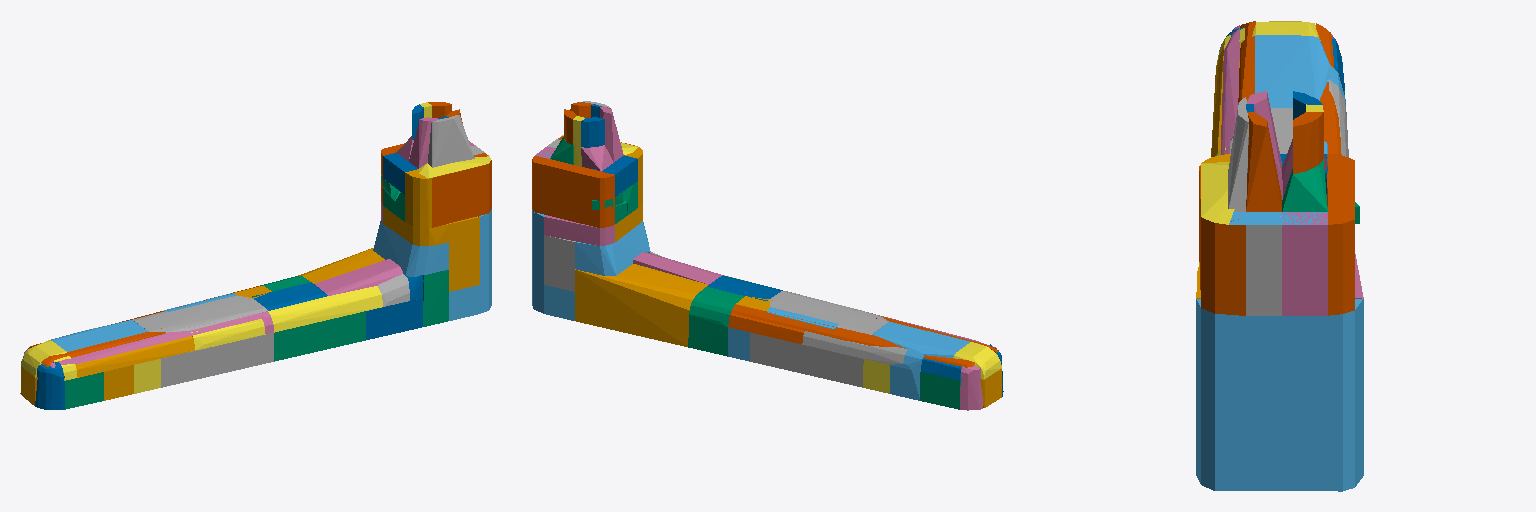
--- Facts derived from the render (not from the file) ---
3 views of the same robot in one strip: view 1: azimuth 30°, elevation 25°; view 2: azimuth 150°, elevation 25°; view 3: azimuth 270°, elevation 25° (orthographic).
Model root with 64 links and 63 joints (63 fixed), rooted at link_handle~handle5_convex_piece_0, posed every joint at zero.
Links seen in each view (by area): view 1: link_handle~handle5_convex_piece_63, link_handle~handle5_convex_piece_21, link_handle~handle5_convex_piece_58, link_handle~handle5_convex_piece_35, link_handle~handle5_convex_piece_47, link_handle~handle5_convex_piece_49, link_handle~handle5_convex_piece_8, link_handle~handle5_convex_piece_55, link_handle~handle5_convex_piece_48, link_handle~handle5_convex_piece_44, link_handle~handle5_convex_piece_46, link_handle~handle5_convex_piece_38 (+19 smaller); view 2: link_handle~handle5_convex_piece_56, link_handle~handle5_convex_piece_45, link_handle~handle5_convex_piece_63, link_handle~handle5_convex_piece_34, link_handle~handle5_convex_piece_49, link_handle~handle5_convex_piece_47, link_handle~handle5_convex_piece_61, link_handle~handle5_convex_piece_41, link_handle~handle5_convex_piece_7, link_handle~handle5_convex_piece_22, link_handle~handle5_convex_piece_57, link_handle~handle5_convex_piece_25 (+17 smaller); view 3: link_handle~handle5_convex_piece_25, link_handle~handle5_convex_piece_6, link_handle~handle5_convex_piece_41, link_handle~handle5_convex_piece_45, link_handle~handle5_convex_piece_21, link_handle~handle5_convex_piece_15, link_handle~handle5_convex_piece_53, link_handle~handle5_convex_piece_55, link_handle~handle5_convex_piece_26, link_handle~handle5_convex_piece_29, link_handle~handle5_convex_piece_38, link_handle~handle5_convex_piece_43 (+7 smaller).
Boxes of the visible links, x1,y1,x2,y2 form: link_handle~handle5_convex_piece_63: (161, 333, 273, 387); link_handle~handle5_convex_piece_21: (432, 153, 491, 227); link_handle~handle5_convex_piece_58: (274, 311, 365, 361); link_handle~handle5_convex_piece_35: (268, 286, 382, 332); link_handle~handle5_convex_piece_47: (134, 295, 267, 333); link_handle~handle5_convex_piece_49: (373, 220, 448, 276); link_handle~handle5_convex_piece_8: (449, 216, 479, 291); link_handle~handle5_convex_piece_55: (428, 115, 474, 167); link_handle~handle5_convex_piece_48: (75, 336, 194, 377); link_handle~handle5_convex_piece_44: (366, 298, 422, 339); link_handle~handle5_convex_piece_46: (314, 259, 402, 295); link_handle~handle5_convex_piece_38: (50, 313, 261, 367); link_handle~handle5_convex_piece_56: (575, 264, 707, 346); link_handle~handle5_convex_piece_45: (532, 156, 614, 227); link_handle~handle5_convex_piece_63: (750, 332, 863, 387); link_handle~handle5_convex_piece_34: (688, 287, 744, 356); link_handle~handle5_convex_piece_49: (575, 221, 650, 275); link_handle~handle5_convex_piece_47: (769, 291, 888, 332); link_handle~handle5_convex_piece_61: (731, 304, 974, 367); link_handle~handle5_convex_piece_41: (872, 322, 969, 357); link_handle~handle5_convex_piece_7: (544, 235, 575, 291); link_handle~handle5_convex_piece_22: (544, 215, 614, 245); link_handle~handle5_convex_piece_57: (890, 348, 924, 400); link_handle~handle5_convex_piece_25: (532, 209, 546, 313); link_handle~handle5_convex_piece_25: (1196, 299, 1363, 491); link_handle~handle5_convex_piece_6: (1282, 212, 1327, 315); link_handle~handle5_convex_piece_41: (1255, 35, 1329, 107); link_handle~handle5_convex_piece_45: (1327, 154, 1354, 315); link_handle~handle5_convex_piece_21: (1199, 166, 1245, 315); link_handle~handle5_convex_piece_15: (1246, 216, 1281, 315); link_handle~handle5_convex_piece_53: (1246, 112, 1281, 211); link_handle~handle5_convex_piece_55: (1228, 97, 1248, 211); link_handle~handle5_convex_piece_26: (1282, 159, 1327, 211); link_handle~handle5_convex_piece_29: (1293, 112, 1323, 173); link_handle~handle5_convex_piece_38: (1221, 25, 1239, 154); link_handle~handle5_convex_piece_43: (1201, 162, 1234, 224).
Size in the robot's own frame: 0.1277 by 0.0227 by 0.052 metres.
64 mesh visuals loaded from 64 distinct referenced files (64 OBJ).

URDF robot description (root):
<robot name="root">
  <link name="link_handle~handle5_convex_piece_0">
    <inertial>
      <origin xyz="0 0 0" rpy="0 0 0"/>
      <mass value="9.66E-04"/>
      <inertia ixx="1.10E-07" ixy="-2.01E-07" ixz="-5.53E-07" iyy="3.87E-06" iyz="-3.13E-08" izz="3.80E-06"/>
    </inertial>
    <visual>
      <origin xyz="0 0 0" rpy="0 0 0"/>
      <geometry>
        <mesh filename="handle~handle5_convex_piece_0.obj" scale="1.0000E+00 1.0000E+00 1.0000E+00"/>
      </geometry>
      <material name=""/>
    </visual>
    <collision>
      <origin xyz="0 0 0" rpy="0 0 0"/>
      <geometry>
        <mesh filename="handle~handle5_convex_piece_0.obj" scale="1.0000E+00 1.0000E+00 1.0000E+00"/>
      </geometry>
    </collision>
  </link>
  <link name="link_handle~handle5_convex_piece_1">
    <inertial>
      <origin xyz="0 0 0" rpy="0 0 0"/>
      <mass value="5.49E-04"/>
      <inertia ixx="7.18E-08" ixy="4.76E-08" ixz="-7.96E-08" iyy="1.89E-07" iyz="2.88E-08" izz="1.57E-07"/>
    </inertial>
    <visual>
      <origin xyz="0 0 0" rpy="0 0 0"/>
      <geometry>
        <mesh filename="handle~handle5_convex_piece_1.obj" scale="1.0000E+00 1.0000E+00 1.0000E+00"/>
      </geometry>
      <material name=""/>
    </visual>
    <collision>
      <origin xyz="0 0 0" rpy="0 0 0"/>
      <geometry>
        <mesh filename="handle~handle5_convex_piece_1.obj" scale="1.0000E+00 1.0000E+00 1.0000E+00"/>
      </geometry>
    </collision>
  </link>
  <joint name="link_handle~handle5_convex_piece_1_joint" type="fixed">
    <origin xyz="0 0 0" rpy="0 0 0"/>
    <parent link="link_handle~handle5_convex_piece_0"/>
    <child link="link_handle~handle5_convex_piece_1"/>
  </joint>
  <link name="link_handle~handle5_convex_piece_2">
    <inertial>
      <origin xyz="0 0 0" rpy="0 0 0"/>
      <mass value="1.30E-03"/>
      <inertia ixx="1.38E-07" ixy="1.82E-07" ixz="2.47E-07" iyy="1.01E-06" iyz="-4.94E-08" izz="9.71E-07"/>
    </inertial>
    <visual>
      <origin xyz="0 0 0" rpy="0 0 0"/>
      <geometry>
        <mesh filename="handle~handle5_convex_piece_2.obj" scale="1.0000E+00 1.0000E+00 1.0000E+00"/>
      </geometry>
      <material name=""/>
    </visual>
    <collision>
      <origin xyz="0 0 0" rpy="0 0 0"/>
      <geometry>
        <mesh filename="handle~handle5_convex_piece_2.obj" scale="1.0000E+00 1.0000E+00 1.0000E+00"/>
      </geometry>
    </collision>
  </link>
  <joint name="link_handle~handle5_convex_piece_2_joint" type="fixed">
    <origin xyz="0 0 0" rpy="0 0 0"/>
    <parent link="link_handle~handle5_convex_piece_1"/>
    <child link="link_handle~handle5_convex_piece_2"/>
  </joint>
  <link name="link_handle~handle5_convex_piece_3">
    <inertial>
      <origin xyz="0 0 0" rpy="0 0 0"/>
      <mass value="1.32E-03"/>
      <inertia ixx="1.67E-07" ixy="3.54E-09" ixz="-6.92E-07" iyy="4.07E-06" iyz="2.98E-10" izz="3.97E-06"/>
    </inertial>
    <visual>
      <origin xyz="0 0 0" rpy="0 0 0"/>
      <geometry>
        <mesh filename="handle~handle5_convex_piece_3.obj" scale="1.0000E+00 1.0000E+00 1.0000E+00"/>
      </geometry>
      <material name=""/>
    </visual>
    <collision>
      <origin xyz="0 0 0" rpy="0 0 0"/>
      <geometry>
        <mesh filename="handle~handle5_convex_piece_3.obj" scale="1.0000E+00 1.0000E+00 1.0000E+00"/>
      </geometry>
    </collision>
  </link>
  <joint name="link_handle~handle5_convex_piece_3_joint" type="fixed">
    <origin xyz="0 0 0" rpy="0 0 0"/>
    <parent link="link_handle~handle5_convex_piece_2"/>
    <child link="link_handle~handle5_convex_piece_3"/>
  </joint>
  <link name="link_handle~handle5_convex_piece_4">
    <inertial>
      <origin xyz="0 0 0" rpy="0 0 0"/>
      <mass value="1.26E-04"/>
      <inertia ixx="9.52E-09" ixy="2.07E-08" ixz="8.67E-09" iyy="5.88E-08" iyz="-3.23E-09" izz="6.50E-08"/>
    </inertial>
    <visual>
      <origin xyz="0 0 0" rpy="0 0 0"/>
      <geometry>
        <mesh filename="handle~handle5_convex_piece_4.obj" scale="1.0000E+00 1.0000E+00 1.0000E+00"/>
      </geometry>
      <material name=""/>
    </visual>
    <collision>
      <origin xyz="0 0 0" rpy="0 0 0"/>
      <geometry>
        <mesh filename="handle~handle5_convex_piece_4.obj" scale="1.0000E+00 1.0000E+00 1.0000E+00"/>
      </geometry>
    </collision>
  </link>
  <joint name="link_handle~handle5_convex_piece_4_joint" type="fixed">
    <origin xyz="0 0 0" rpy="0 0 0"/>
    <parent link="link_handle~handle5_convex_piece_3"/>
    <child link="link_handle~handle5_convex_piece_4"/>
  </joint>
  <link name="link_handle~handle5_convex_piece_5">
    <inertial>
      <origin xyz="0 0 0" rpy="0 0 0"/>
      <mass value="6.37E-05"/>
      <inertia ixx="4.13E-09" ixy="-8.38E-09" ixz="-1.26E-08" iyy="7.22E-08" iyz="-1.53E-09" izz="7.01E-08"/>
    </inertial>
    <visual>
      <origin xyz="0 0 0" rpy="0 0 0"/>
      <geometry>
        <mesh filename="handle~handle5_convex_piece_5.obj" scale="1.0000E+00 1.0000E+00 1.0000E+00"/>
      </geometry>
      <material name=""/>
    </visual>
    <collision>
      <origin xyz="0 0 0" rpy="0 0 0"/>
      <geometry>
        <mesh filename="handle~handle5_convex_piece_5.obj" scale="1.0000E+00 1.0000E+00 1.0000E+00"/>
      </geometry>
    </collision>
  </link>
  <joint name="link_handle~handle5_convex_piece_5_joint" type="fixed">
    <origin xyz="0 0 0" rpy="0 0 0"/>
    <parent link="link_handle~handle5_convex_piece_4"/>
    <child link="link_handle~handle5_convex_piece_5"/>
  </joint>
  <link name="link_handle~handle5_convex_piece_6">
    <inertial>
      <origin xyz="0 0 0" rpy="0 0 0"/>
      <mass value="4.26E-04"/>
      <inertia ixx="1.64E-07" ixy="-5.77E-08" ixz="-3.39E-07" iyy="9.14E-07" iyz="-2.60E-08" izz="7.62E-07"/>
    </inertial>
    <visual>
      <origin xyz="0 0 0" rpy="0 0 0"/>
      <geometry>
        <mesh filename="handle~handle5_convex_piece_6.obj" scale="1.0000E+00 1.0000E+00 1.0000E+00"/>
      </geometry>
      <material name=""/>
    </visual>
    <collision>
      <origin xyz="0 0 0" rpy="0 0 0"/>
      <geometry>
        <mesh filename="handle~handle5_convex_piece_6.obj" scale="1.0000E+00 1.0000E+00 1.0000E+00"/>
      </geometry>
    </collision>
  </link>
  <joint name="link_handle~handle5_convex_piece_6_joint" type="fixed">
    <origin xyz="0 0 0" rpy="0 0 0"/>
    <parent link="link_handle~handle5_convex_piece_5"/>
    <child link="link_handle~handle5_convex_piece_6"/>
  </joint>
  <link name="link_handle~handle5_convex_piece_7">
    <inertial>
      <origin xyz="0 0 0" rpy="0 0 0"/>
      <mass value="7.29E-04"/>
      <inertia ixx="6.05E-08" ixy="-2.02E-07" ixz="-1.77E-08" iyy="8.79E-07" iyz="-3.94E-09" izz="9.18E-07"/>
    </inertial>
    <visual>
      <origin xyz="0 0 0" rpy="0 0 0"/>
      <geometry>
        <mesh filename="handle~handle5_convex_piece_7.obj" scale="1.0000E+00 1.0000E+00 1.0000E+00"/>
      </geometry>
      <material name=""/>
    </visual>
    <collision>
      <origin xyz="0 0 0" rpy="0 0 0"/>
      <geometry>
        <mesh filename="handle~handle5_convex_piece_7.obj" scale="1.0000E+00 1.0000E+00 1.0000E+00"/>
      </geometry>
    </collision>
  </link>
  <joint name="link_handle~handle5_convex_piece_7_joint" type="fixed">
    <origin xyz="0 0 0" rpy="0 0 0"/>
    <parent link="link_handle~handle5_convex_piece_6"/>
    <child link="link_handle~handle5_convex_piece_7"/>
  </joint>
  <link name="link_handle~handle5_convex_piece_8">
    <inertial>
      <origin xyz="0 0 0" rpy="0 0 0"/>
      <mass value="1.00E-03"/>
      <inertia ixx="1.05E-07" ixy="2.76E-07" ixz="-1.09E-07" iyy="1.23E-06" iyz="2.51E-08" izz="1.26E-06"/>
    </inertial>
    <visual>
      <origin xyz="0 0 0" rpy="0 0 0"/>
      <geometry>
        <mesh filename="handle~handle5_convex_piece_8.obj" scale="1.0000E+00 1.0000E+00 1.0000E+00"/>
      </geometry>
      <material name=""/>
    </visual>
    <collision>
      <origin xyz="0 0 0" rpy="0 0 0"/>
      <geometry>
        <mesh filename="handle~handle5_convex_piece_8.obj" scale="1.0000E+00 1.0000E+00 1.0000E+00"/>
      </geometry>
    </collision>
  </link>
  <joint name="link_handle~handle5_convex_piece_8_joint" type="fixed">
    <origin xyz="0 0 0" rpy="0 0 0"/>
    <parent link="link_handle~handle5_convex_piece_7"/>
    <child link="link_handle~handle5_convex_piece_8"/>
  </joint>
  <link name="link_handle~handle5_convex_piece_9">
    <inertial>
      <origin xyz="0 0 0" rpy="0 0 0"/>
      <mass value="0.00E+00"/>
      <inertia ixx="2.90E-23" ixy="-0.00E+00" ixz="-1.16E-22" iyy="2.90E-23" iyz="-0.00E+00" izz="0.00E+00"/>
    </inertial>
    <visual>
      <origin xyz="0 0 0" rpy="0 0 0"/>
      <geometry>
        <mesh filename="handle~handle5_convex_piece_9.obj" scale="1.0000E+00 1.0000E+00 1.0000E+00"/>
      </geometry>
      <material name=""/>
    </visual>
    <collision>
      <origin xyz="0 0 0" rpy="0 0 0"/>
      <geometry>
        <mesh filename="handle~handle5_convex_piece_9.obj" scale="1.0000E+00 1.0000E+00 1.0000E+00"/>
      </geometry>
    </collision>
  </link>
  <joint name="link_handle~handle5_convex_piece_9_joint" type="fixed">
    <origin xyz="0 0 0" rpy="0 0 0"/>
    <parent link="link_handle~handle5_convex_piece_8"/>
    <child link="link_handle~handle5_convex_piece_9"/>
  </joint>
  <link name="link_handle~handle5_convex_piece_10">
    <inertial>
      <origin xyz="0 0 0" rpy="0 0 0"/>
      <mass value="7.95E-05"/>
      <inertia ixx="2.95E-08" ixy="-1.14E-08" ixz="-3.44E-08" iyy="7.14E-08" iyz="-8.72E-09" izz="4.84E-08"/>
    </inertial>
    <visual>
      <origin xyz="0 0 0" rpy="0 0 0"/>
      <geometry>
        <mesh filename="handle~handle5_convex_piece_10.obj" scale="1.0000E+00 1.0000E+00 1.0000E+00"/>
      </geometry>
      <material name=""/>
    </visual>
    <collision>
      <origin xyz="0 0 0" rpy="0 0 0"/>
      <geometry>
        <mesh filename="handle~handle5_convex_piece_10.obj" scale="1.0000E+00 1.0000E+00 1.0000E+00"/>
      </geometry>
    </collision>
  </link>
  <joint name="link_handle~handle5_convex_piece_10_joint" type="fixed">
    <origin xyz="0 0 0" rpy="0 0 0"/>
    <parent link="link_handle~handle5_convex_piece_9"/>
    <child link="link_handle~handle5_convex_piece_10"/>
  </joint>
  <link name="link_handle~handle5_convex_piece_11">
    <inertial>
      <origin xyz="0 0 0" rpy="0 0 0"/>
      <mass value="1.10E-04"/>
      <inertia ixx="8.50E-08" ixy="-1.58E-08" ixz="-9.57E-08" iyy="2.02E-07" iyz="-1.29E-08" izz="1.21E-07"/>
    </inertial>
    <visual>
      <origin xyz="0 0 0" rpy="0 0 0"/>
      <geometry>
        <mesh filename="handle~handle5_convex_piece_11.obj" scale="1.0000E+00 1.0000E+00 1.0000E+00"/>
      </geometry>
      <material name=""/>
    </visual>
    <collision>
      <origin xyz="0 0 0" rpy="0 0 0"/>
      <geometry>
        <mesh filename="handle~handle5_convex_piece_11.obj" scale="1.0000E+00 1.0000E+00 1.0000E+00"/>
      </geometry>
    </collision>
  </link>
  <joint name="link_handle~handle5_convex_piece_11_joint" type="fixed">
    <origin xyz="0 0 0" rpy="0 0 0"/>
    <parent link="link_handle~handle5_convex_piece_10"/>
    <child link="link_handle~handle5_convex_piece_11"/>
  </joint>
  <link name="link_handle~handle5_convex_piece_12">
    <inertial>
      <origin xyz="0 0 0" rpy="0 0 0"/>
      <mass value="5.61E-05"/>
      <inertia ixx="4.03E-09" ixy="2.89E-08" ixz="-1.80E-08" iyy="2.95E-07" iyz="1.80E-09" izz="2.97E-07"/>
    </inertial>
    <visual>
      <origin xyz="0 0 0" rpy="0 0 0"/>
      <geometry>
        <mesh filename="handle~handle5_convex_piece_12.obj" scale="1.0000E+00 1.0000E+00 1.0000E+00"/>
      </geometry>
      <material name=""/>
    </visual>
    <collision>
      <origin xyz="0 0 0" rpy="0 0 0"/>
      <geometry>
        <mesh filename="handle~handle5_convex_piece_12.obj" scale="1.0000E+00 1.0000E+00 1.0000E+00"/>
      </geometry>
    </collision>
  </link>
  <joint name="link_handle~handle5_convex_piece_12_joint" type="fixed">
    <origin xyz="0 0 0" rpy="0 0 0"/>
    <parent link="link_handle~handle5_convex_piece_11"/>
    <child link="link_handle~handle5_convex_piece_12"/>
  </joint>
  <link name="link_handle~handle5_convex_piece_13">
    <inertial>
      <origin xyz="0 0 0" rpy="0 0 0"/>
      <mass value="1.04E-04"/>
      <inertia ixx="9.45E-09" ixy="1.99E-08" ixz="-1.05E-08" iyy="6.02E-08" iyz="3.88E-09" izz="6.54E-08"/>
    </inertial>
    <visual>
      <origin xyz="0 0 0" rpy="0 0 0"/>
      <geometry>
        <mesh filename="handle~handle5_convex_piece_13.obj" scale="1.0000E+00 1.0000E+00 1.0000E+00"/>
      </geometry>
      <material name=""/>
    </visual>
    <collision>
      <origin xyz="0 0 0" rpy="0 0 0"/>
      <geometry>
        <mesh filename="handle~handle5_convex_piece_13.obj" scale="1.0000E+00 1.0000E+00 1.0000E+00"/>
      </geometry>
    </collision>
  </link>
  <joint name="link_handle~handle5_convex_piece_13_joint" type="fixed">
    <origin xyz="0 0 0" rpy="0 0 0"/>
    <parent link="link_handle~handle5_convex_piece_12"/>
    <child link="link_handle~handle5_convex_piece_13"/>
  </joint>
  <link name="link_handle~handle5_convex_piece_14">
    <inertial>
      <origin xyz="0 0 0" rpy="0 0 0"/>
      <mass value="1.01E-04"/>
      <inertia ixx="1.33E-08" ixy="5.02E-08" ixz="-7.29E-08" iyy="6.50E-07" iyz="5.75E-09" izz="6.45E-07"/>
    </inertial>
    <visual>
      <origin xyz="0 0 0" rpy="0 0 0"/>
      <geometry>
        <mesh filename="handle~handle5_convex_piece_14.obj" scale="1.0000E+00 1.0000E+00 1.0000E+00"/>
      </geometry>
      <material name=""/>
    </visual>
    <collision>
      <origin xyz="0 0 0" rpy="0 0 0"/>
      <geometry>
        <mesh filename="handle~handle5_convex_piece_14.obj" scale="1.0000E+00 1.0000E+00 1.0000E+00"/>
      </geometry>
    </collision>
  </link>
  <joint name="link_handle~handle5_convex_piece_14_joint" type="fixed">
    <origin xyz="0 0 0" rpy="0 0 0"/>
    <parent link="link_handle~handle5_convex_piece_13"/>
    <child link="link_handle~handle5_convex_piece_14"/>
  </joint>
  <link name="link_handle~handle5_convex_piece_15">
    <inertial>
      <origin xyz="0 0 0" rpy="0 0 0"/>
      <mass value="6.59E-04"/>
      <inertia ixx="2.51E-07" ixy="5.80E-08" ixz="-4.97E-07" iyy="1.30E-06" iyz="2.77E-08" izz="1.06E-06"/>
    </inertial>
    <visual>
      <origin xyz="0 0 0" rpy="0 0 0"/>
      <geometry>
        <mesh filename="handle~handle5_convex_piece_15.obj" scale="1.0000E+00 1.0000E+00 1.0000E+00"/>
      </geometry>
      <material name=""/>
    </visual>
    <collision>
      <origin xyz="0 0 0" rpy="0 0 0"/>
      <geometry>
        <mesh filename="handle~handle5_convex_piece_15.obj" scale="1.0000E+00 1.0000E+00 1.0000E+00"/>
      </geometry>
    </collision>
  </link>
  <joint name="link_handle~handle5_convex_piece_15_joint" type="fixed">
    <origin xyz="0 0 0" rpy="0 0 0"/>
    <parent link="link_handle~handle5_convex_piece_14"/>
    <child link="link_handle~handle5_convex_piece_15"/>
  </joint>
  <link name="link_handle~handle5_convex_piece_16">
    <inertial>
      <origin xyz="0 0 0" rpy="0 0 0"/>
      <mass value="3.86E-04"/>
      <inertia ixx="4.54E-08" ixy="2.09E-08" ixz="-3.16E-07" iyy="2.54E-06" iyz="2.73E-09" izz="2.50E-06"/>
    </inertial>
    <visual>
      <origin xyz="0 0 0" rpy="0 0 0"/>
      <geometry>
        <mesh filename="handle~handle5_convex_piece_16.obj" scale="1.0000E+00 1.0000E+00 1.0000E+00"/>
      </geometry>
      <material name=""/>
    </visual>
    <collision>
      <origin xyz="0 0 0" rpy="0 0 0"/>
      <geometry>
        <mesh filename="handle~handle5_convex_piece_16.obj" scale="1.0000E+00 1.0000E+00 1.0000E+00"/>
      </geometry>
    </collision>
  </link>
  <joint name="link_handle~handle5_convex_piece_16_joint" type="fixed">
    <origin xyz="0 0 0" rpy="0 0 0"/>
    <parent link="link_handle~handle5_convex_piece_15"/>
    <child link="link_handle~handle5_convex_piece_16"/>
  </joint>
  <link name="link_handle~handle5_convex_piece_17">
    <inertial>
      <origin xyz="0 0 0" rpy="0 0 0"/>
      <mass value="1.62E-03"/>
      <inertia ixx="2.50E-07" ixy="-6.22E-10" ixz="5.82E-07" iyy="2.15E-06" iyz="1.77E-10" izz="2.04E-06"/>
    </inertial>
    <visual>
      <origin xyz="0 0 0" rpy="0 0 0"/>
      <geometry>
        <mesh filename="handle~handle5_convex_piece_17.obj" scale="1.0000E+00 1.0000E+00 1.0000E+00"/>
      </geometry>
      <material name=""/>
    </visual>
    <collision>
      <origin xyz="0 0 0" rpy="0 0 0"/>
      <geometry>
        <mesh filename="handle~handle5_convex_piece_17.obj" scale="1.0000E+00 1.0000E+00 1.0000E+00"/>
      </geometry>
    </collision>
  </link>
  <joint name="link_handle~handle5_convex_piece_17_joint" type="fixed">
    <origin xyz="0 0 0" rpy="0 0 0"/>
    <parent link="link_handle~handle5_convex_piece_16"/>
    <child link="link_handle~handle5_convex_piece_17"/>
  </joint>
  <link name="link_handle~handle5_convex_piece_18">
    <inertial>
      <origin xyz="0 0 0" rpy="0 0 0"/>
      <mass value="1.58E-03"/>
      <inertia ixx="2.16E-07" ixy="1.76E-09" ixz="-1.18E-06" iyy="8.41E-06" iyz="1.72E-10" izz="8.28E-06"/>
    </inertial>
    <visual>
      <origin xyz="0 0 0" rpy="0 0 0"/>
      <geometry>
        <mesh filename="handle~handle5_convex_piece_18.obj" scale="1.0000E+00 1.0000E+00 1.0000E+00"/>
      </geometry>
      <material name=""/>
    </visual>
    <collision>
      <origin xyz="0 0 0" rpy="0 0 0"/>
      <geometry>
        <mesh filename="handle~handle5_convex_piece_18.obj" scale="1.0000E+00 1.0000E+00 1.0000E+00"/>
      </geometry>
    </collision>
  </link>
  <joint name="link_handle~handle5_convex_piece_18_joint" type="fixed">
    <origin xyz="0 0 0" rpy="0 0 0"/>
    <parent link="link_handle~handle5_convex_piece_17"/>
    <child link="link_handle~handle5_convex_piece_18"/>
  </joint>
  <link name="link_handle~handle5_convex_piece_19">
    <inertial>
      <origin xyz="0 0 0" rpy="0 0 0"/>
      <mass value="3.68E-04"/>
      <inertia ixx="1.62E-08" ixy="3.05E-12" ixz="-4.61E-08" iyy="5.04E-07" iyz="2.87E-13" izz="4.93E-07"/>
    </inertial>
    <visual>
      <origin xyz="0 0 0" rpy="0 0 0"/>
      <geometry>
        <mesh filename="handle~handle5_convex_piece_19.obj" scale="1.0000E+00 1.0000E+00 1.0000E+00"/>
      </geometry>
      <material name=""/>
    </visual>
    <collision>
      <origin xyz="0 0 0" rpy="0 0 0"/>
      <geometry>
        <mesh filename="handle~handle5_convex_piece_19.obj" scale="1.0000E+00 1.0000E+00 1.0000E+00"/>
      </geometry>
    </collision>
  </link>
  <joint name="link_handle~handle5_convex_piece_19_joint" type="fixed">
    <origin xyz="0 0 0" rpy="0 0 0"/>
    <parent link="link_handle~handle5_convex_piece_18"/>
    <child link="link_handle~handle5_convex_piece_19"/>
  </joint>
  <link name="link_handle~handle5_convex_piece_20">
    <inertial>
      <origin xyz="0 0 0" rpy="0 0 0"/>
      <mass value="1.97E-04"/>
      <inertia ixx="2.43E-08" ixy="-8.39E-08" ixz="-1.43E-07" iyy="1.27E-06" iyz="-9.60E-09" izz="1.26E-06"/>
    </inertial>
    <visual>
      <origin xyz="0 0 0" rpy="0 0 0"/>
      <geometry>
        <mesh filename="handle~handle5_convex_piece_20.obj" scale="1.0000E+00 1.0000E+00 1.0000E+00"/>
      </geometry>
      <material name=""/>
    </visual>
    <collision>
      <origin xyz="0 0 0" rpy="0 0 0"/>
      <geometry>
        <mesh filename="handle~handle5_convex_piece_20.obj" scale="1.0000E+00 1.0000E+00 1.0000E+00"/>
      </geometry>
    </collision>
  </link>
  <joint name="link_handle~handle5_convex_piece_20_joint" type="fixed">
    <origin xyz="0 0 0" rpy="0 0 0"/>
    <parent link="link_handle~handle5_convex_piece_19"/>
    <child link="link_handle~handle5_convex_piece_20"/>
  </joint>
  <link name="link_handle~handle5_convex_piece_21">
    <inertial>
      <origin xyz="0 0 0" rpy="0 0 0"/>
      <mass value="1.69E-03"/>
      <inertia ixx="7.27E-07" ixy="4.37E-07" ixz="-1.09E-06" iyy="2.65E-06" iyz="2.41E-07" izz="2.13E-06"/>
    </inertial>
    <visual>
      <origin xyz="0 0 0" rpy="0 0 0"/>
      <geometry>
        <mesh filename="handle~handle5_convex_piece_21.obj" scale="1.0000E+00 1.0000E+00 1.0000E+00"/>
      </geometry>
      <material name=""/>
    </visual>
    <collision>
      <origin xyz="0 0 0" rpy="0 0 0"/>
      <geometry>
        <mesh filename="handle~handle5_convex_piece_21.obj" scale="1.0000E+00 1.0000E+00 1.0000E+00"/>
      </geometry>
    </collision>
  </link>
  <joint name="link_handle~handle5_convex_piece_21_joint" type="fixed">
    <origin xyz="0 0 0" rpy="0 0 0"/>
    <parent link="link_handle~handle5_convex_piece_20"/>
    <child link="link_handle~handle5_convex_piece_21"/>
  </joint>
  <link name="link_handle~handle5_convex_piece_22">
    <inertial>
      <origin xyz="0 0 0" rpy="0 0 0"/>
      <mass value="4.37E-04"/>
      <inertia ixx="7.14E-08" ixy="-1.10E-07" ixz="-1.32E-07" iyy="4.75E-07" iyz="-3.41E-08" izz="4.63E-07"/>
    </inertial>
    <visual>
      <origin xyz="0 0 0" rpy="0 0 0"/>
      <geometry>
        <mesh filename="handle~handle5_convex_piece_22.obj" scale="1.0000E+00 1.0000E+00 1.0000E+00"/>
      </geometry>
      <material name=""/>
    </visual>
    <collision>
      <origin xyz="0 0 0" rpy="0 0 0"/>
      <geometry>
        <mesh filename="handle~handle5_convex_piece_22.obj" scale="1.0000E+00 1.0000E+00 1.0000E+00"/>
      </geometry>
    </collision>
  </link>
  <joint name="link_handle~handle5_convex_piece_22_joint" type="fixed">
    <origin xyz="0 0 0" rpy="0 0 0"/>
    <parent link="link_handle~handle5_convex_piece_21"/>
    <child link="link_handle~handle5_convex_piece_22"/>
  </joint>
  <link name="link_handle~handle5_convex_piece_23">
    <inertial>
      <origin xyz="0 0 0" rpy="0 0 0"/>
      <mass value="5.21E-05"/>
      <inertia ixx="4.34E-09" ixy="2.30E-08" ixz="-1.31E-08" iyy="1.66E-07" iyz="1.86E-09" izz="1.68E-07"/>
    </inertial>
    <visual>
      <origin xyz="0 0 0" rpy="0 0 0"/>
      <geometry>
        <mesh filename="handle~handle5_convex_piece_23.obj" scale="1.0000E+00 1.0000E+00 1.0000E+00"/>
      </geometry>
      <material name=""/>
    </visual>
    <collision>
      <origin xyz="0 0 0" rpy="0 0 0"/>
      <geometry>
        <mesh filename="handle~handle5_convex_piece_23.obj" scale="1.0000E+00 1.0000E+00 1.0000E+00"/>
      </geometry>
    </collision>
  </link>
  <joint name="link_handle~handle5_convex_piece_23_joint" type="fixed">
    <origin xyz="0 0 0" rpy="0 0 0"/>
    <parent link="link_handle~handle5_convex_piece_22"/>
    <child link="link_handle~handle5_convex_piece_23"/>
  </joint>
  <link name="link_handle~handle5_convex_piece_24">
    <inertial>
      <origin xyz="0 0 0" rpy="0 0 0"/>
      <mass value="2.36E-04"/>
      <inertia ixx="1.08E-07" ixy="4.22E-08" ixz="-1.10E-07" iyy="2.28E-07" iyz="3.44E-08" izz="1.48E-07"/>
    </inertial>
    <visual>
      <origin xyz="0 0 0" rpy="0 0 0"/>
      <geometry>
        <mesh filename="handle~handle5_convex_piece_24.obj" scale="1.0000E+00 1.0000E+00 1.0000E+00"/>
      </geometry>
      <material name=""/>
    </visual>
    <collision>
      <origin xyz="0 0 0" rpy="0 0 0"/>
      <geometry>
        <mesh filename="handle~handle5_convex_piece_24.obj" scale="1.0000E+00 1.0000E+00 1.0000E+00"/>
      </geometry>
    </collision>
  </link>
  <joint name="link_handle~handle5_convex_piece_24_joint" type="fixed">
    <origin xyz="0 0 0" rpy="0 0 0"/>
    <parent link="link_handle~handle5_convex_piece_23"/>
    <child link="link_handle~handle5_convex_piece_24"/>
  </joint>
  <link name="link_handle~handle5_convex_piece_25">
    <inertial>
      <origin xyz="0 0 0" rpy="0 0 0"/>
      <mass value="2.85E-03"/>
      <inertia ixx="2.75E-07" ixy="-2.11E-10" ixz="1.26E-07" iyy="5.06E-06" iyz="-5.93E-12" izz="5.00E-06"/>
    </inertial>
    <visual>
      <origin xyz="0 0 0" rpy="0 0 0"/>
      <geometry>
        <mesh filename="handle~handle5_convex_piece_25.obj" scale="1.0000E+00 1.0000E+00 1.0000E+00"/>
      </geometry>
      <material name=""/>
    </visual>
    <collision>
      <origin xyz="0 0 0" rpy="0 0 0"/>
      <geometry>
        <mesh filename="handle~handle5_convex_piece_25.obj" scale="1.0000E+00 1.0000E+00 1.0000E+00"/>
      </geometry>
    </collision>
  </link>
  <joint name="link_handle~handle5_convex_piece_25_joint" type="fixed">
    <origin xyz="0 0 0" rpy="0 0 0"/>
    <parent link="link_handle~handle5_convex_piece_24"/>
    <child link="link_handle~handle5_convex_piece_25"/>
  </joint>
  <link name="link_handle~handle5_convex_piece_26">
    <inertial>
      <origin xyz="0 0 0" rpy="0 0 0"/>
      <mass value="5.97E-04"/>
      <inertia ixx="2.83E-07" ixy="-8.32E-08" ixz="-4.70E-07" iyy="1.13E-06" iyz="-4.53E-08" izz="8.68E-07"/>
    </inertial>
    <visual>
      <origin xyz="0 0 0" rpy="0 0 0"/>
      <geometry>
        <mesh filename="handle~handle5_convex_piece_26.obj" scale="1.0000E+00 1.0000E+00 1.0000E+00"/>
      </geometry>
      <material name=""/>
    </visual>
    <collision>
      <origin xyz="0 0 0" rpy="0 0 0"/>
      <geometry>
        <mesh filename="handle~handle5_convex_piece_26.obj" scale="1.0000E+00 1.0000E+00 1.0000E+00"/>
      </geometry>
    </collision>
  </link>
  <joint name="link_handle~handle5_convex_piece_26_joint" type="fixed">
    <origin xyz="0 0 0" rpy="0 0 0"/>
    <parent link="link_handle~handle5_convex_piece_25"/>
    <child link="link_handle~handle5_convex_piece_26"/>
  </joint>
  <link name="link_handle~handle5_convex_piece_27">
    <inertial>
      <origin xyz="0 0 0" rpy="0 0 0"/>
      <mass value="9.42E-05"/>
      <inertia ixx="8.77E-09" ixy="-2.44E-08" ixz="-1.29E-08" iyy="9.31E-08" iyz="-3.61E-09" izz="9.79E-08"/>
    </inertial>
    <visual>
      <origin xyz="0 0 0" rpy="0 0 0"/>
      <geometry>
        <mesh filename="handle~handle5_convex_piece_27.obj" scale="1.0000E+00 1.0000E+00 1.0000E+00"/>
      </geometry>
      <material name=""/>
    </visual>
    <collision>
      <origin xyz="0 0 0" rpy="0 0 0"/>
      <geometry>
        <mesh filename="handle~handle5_convex_piece_27.obj" scale="1.0000E+00 1.0000E+00 1.0000E+00"/>
      </geometry>
    </collision>
  </link>
  <joint name="link_handle~handle5_convex_piece_27_joint" type="fixed">
    <origin xyz="0 0 0" rpy="0 0 0"/>
    <parent link="link_handle~handle5_convex_piece_26"/>
    <child link="link_handle~handle5_convex_piece_27"/>
  </joint>
  <link name="link_handle~handle5_convex_piece_28">
    <inertial>
      <origin xyz="0 0 0" rpy="0 0 0"/>
      <mass value="7.24E-05"/>
      <inertia ixx="8.57E-08" ixy="-7.64E-09" ixz="-7.38E-08" iyy="1.49E-07" iyz="-8.68E-09" izz="6.56E-08"/>
    </inertial>
    <visual>
      <origin xyz="0 0 0" rpy="0 0 0"/>
      <geometry>
        <mesh filename="handle~handle5_convex_piece_28.obj" scale="1.0000E+00 1.0000E+00 1.0000E+00"/>
      </geometry>
      <material name=""/>
    </visual>
    <collision>
      <origin xyz="0 0 0" rpy="0 0 0"/>
      <geometry>
        <mesh filename="handle~handle5_convex_piece_28.obj" scale="1.0000E+00 1.0000E+00 1.0000E+00"/>
      </geometry>
    </collision>
  </link>
  <joint name="link_handle~handle5_convex_piece_28_joint" type="fixed">
    <origin xyz="0 0 0" rpy="0 0 0"/>
    <parent link="link_handle~handle5_convex_piece_27"/>
    <child link="link_handle~handle5_convex_piece_28"/>
  </joint>
  <link name="link_handle~handle5_convex_piece_29">
    <inertial>
      <origin xyz="0 0 0" rpy="0 0 0"/>
      <mass value="8.22E-05"/>
      <inertia ixx="9.75E-08" ixy="-1.06E-08" ixz="-1.02E-07" iyy="2.04E-07" iyz="-1.01E-08" izz="1.09E-07"/>
    </inertial>
    <visual>
      <origin xyz="0 0 0" rpy="0 0 0"/>
      <geometry>
        <mesh filename="handle~handle5_convex_piece_29.obj" scale="1.0000E+00 1.0000E+00 1.0000E+00"/>
      </geometry>
      <material name=""/>
    </visual>
    <collision>
      <origin xyz="0 0 0" rpy="0 0 0"/>
      <geometry>
        <mesh filename="handle~handle5_convex_piece_29.obj" scale="1.0000E+00 1.0000E+00 1.0000E+00"/>
      </geometry>
    </collision>
  </link>
  <joint name="link_handle~handle5_convex_piece_29_joint" type="fixed">
    <origin xyz="0 0 0" rpy="0 0 0"/>
    <parent link="link_handle~handle5_convex_piece_28"/>
    <child link="link_handle~handle5_convex_piece_29"/>
  </joint>
  <link name="link_handle~handle5_convex_piece_30">
    <inertial>
      <origin xyz="0 0 0" rpy="0 0 0"/>
      <mass value="2.30E-05"/>
      <inertia ixx="1.69E-09" ixy="-3.50E-09" ixz="-1.66E-09" iyy="9.55E-09" iyz="-6.54E-10" izz="1.06E-08"/>
    </inertial>
    <visual>
      <origin xyz="0 0 0" rpy="0 0 0"/>
      <geometry>
        <mesh filename="handle~handle5_convex_piece_30.obj" scale="1.0000E+00 1.0000E+00 1.0000E+00"/>
      </geometry>
      <material name=""/>
    </visual>
    <collision>
      <origin xyz="0 0 0" rpy="0 0 0"/>
      <geometry>
        <mesh filename="handle~handle5_convex_piece_30.obj" scale="1.0000E+00 1.0000E+00 1.0000E+00"/>
      </geometry>
    </collision>
  </link>
  <joint name="link_handle~handle5_convex_piece_30_joint" type="fixed">
    <origin xyz="0 0 0" rpy="0 0 0"/>
    <parent link="link_handle~handle5_convex_piece_29"/>
    <child link="link_handle~handle5_convex_piece_30"/>
  </joint>
  <link name="link_handle~handle5_convex_piece_31">
    <inertial>
      <origin xyz="0 0 0" rpy="0 0 0"/>
      <mass value="6.12E-05"/>
      <inertia ixx="5.96E-09" ixy="8.94E-09" ixz="3.44E-09" iyy="1.70E-08" iyz="-2.02E-09" izz="2.12E-08"/>
    </inertial>
    <visual>
      <origin xyz="0 0 0" rpy="0 0 0"/>
      <geometry>
        <mesh filename="handle~handle5_convex_piece_31.obj" scale="1.0000E+00 1.0000E+00 1.0000E+00"/>
      </geometry>
      <material name=""/>
    </visual>
    <collision>
      <origin xyz="0 0 0" rpy="0 0 0"/>
      <geometry>
        <mesh filename="handle~handle5_convex_piece_31.obj" scale="1.0000E+00 1.0000E+00 1.0000E+00"/>
      </geometry>
    </collision>
  </link>
  <joint name="link_handle~handle5_convex_piece_31_joint" type="fixed">
    <origin xyz="0 0 0" rpy="0 0 0"/>
    <parent link="link_handle~handle5_convex_piece_30"/>
    <child link="link_handle~handle5_convex_piece_31"/>
  </joint>
  <link name="link_handle~handle5_convex_piece_32">
    <inertial>
      <origin xyz="0 0 0" rpy="0 0 0"/>
      <mass value="7.07E-04"/>
      <inertia ixx="8.77E-08" ixy="4.75E-08" ixz="-1.80E-07" iyy="5.57E-07" iyz="1.71E-08" izz="5.09E-07"/>
    </inertial>
    <visual>
      <origin xyz="0 0 0" rpy="0 0 0"/>
      <geometry>
        <mesh filename="handle~handle5_convex_piece_32.obj" scale="1.0000E+00 1.0000E+00 1.0000E+00"/>
      </geometry>
      <material name=""/>
    </visual>
    <collision>
      <origin xyz="0 0 0" rpy="0 0 0"/>
      <geometry>
        <mesh filename="handle~handle5_convex_piece_32.obj" scale="1.0000E+00 1.0000E+00 1.0000E+00"/>
      </geometry>
    </collision>
  </link>
  <joint name="link_handle~handle5_convex_piece_32_joint" type="fixed">
    <origin xyz="0 0 0" rpy="0 0 0"/>
    <parent link="link_handle~handle5_convex_piece_31"/>
    <child link="link_handle~handle5_convex_piece_32"/>
  </joint>
  <link name="link_handle~handle5_convex_piece_33">
    <inertial>
      <origin xyz="0 0 0" rpy="0 0 0"/>
      <mass value="1.36E-04"/>
      <inertia ixx="6.47E-09" ixy="2.48E-08" ixz="-1.22E-08" iyy="1.31E-07" iyz="2.56E-09" izz="1.34E-07"/>
    </inertial>
    <visual>
      <origin xyz="0 0 0" rpy="0 0 0"/>
      <geometry>
        <mesh filename="handle~handle5_convex_piece_33.obj" scale="1.0000E+00 1.0000E+00 1.0000E+00"/>
      </geometry>
      <material name=""/>
    </visual>
    <collision>
      <origin xyz="0 0 0" rpy="0 0 0"/>
      <geometry>
        <mesh filename="handle~handle5_convex_piece_33.obj" scale="1.0000E+00 1.0000E+00 1.0000E+00"/>
      </geometry>
    </collision>
  </link>
  <joint name="link_handle~handle5_convex_piece_33_joint" type="fixed">
    <origin xyz="0 0 0" rpy="0 0 0"/>
    <parent link="link_handle~handle5_convex_piece_32"/>
    <child link="link_handle~handle5_convex_piece_33"/>
  </joint>
  <link name="link_handle~handle5_convex_piece_34">
    <inertial>
      <origin xyz="0 0 0" rpy="0 0 0"/>
      <mass value="1.24E-03"/>
      <inertia ixx="1.46E-07" ixy="4.99E-08" ixz="-7.10E-08" iyy="1.72E-07" iyz="5.89E-08" izz="1.22E-07"/>
    </inertial>
    <visual>
      <origin xyz="0 0 0" rpy="0 0 0"/>
      <geometry>
        <mesh filename="handle~handle5_convex_piece_34.obj" scale="1.0000E+00 1.0000E+00 1.0000E+00"/>
      </geometry>
      <material name=""/>
    </visual>
    <collision>
      <origin xyz="0 0 0" rpy="0 0 0"/>
      <geometry>
        <mesh filename="handle~handle5_convex_piece_34.obj" scale="1.0000E+00 1.0000E+00 1.0000E+00"/>
      </geometry>
    </collision>
  </link>
  <joint name="link_handle~handle5_convex_piece_34_joint" type="fixed">
    <origin xyz="0 0 0" rpy="0 0 0"/>
    <parent link="link_handle~handle5_convex_piece_33"/>
    <child link="link_handle~handle5_convex_piece_34"/>
  </joint>
  <link name="link_handle~handle5_convex_piece_35">
    <inertial>
      <origin xyz="0 0 0" rpy="0 0 0"/>
      <mass value="1.69E-04"/>
      <inertia ixx="1.62E-08" ixy="-4.46E-09" ixz="-2.24E-09" iyy="1.75E-08" iyz="-6.09E-09" izz="2.78E-08"/>
    </inertial>
    <visual>
      <origin xyz="0 0 0" rpy="0 0 0"/>
      <geometry>
        <mesh filename="handle~handle5_convex_piece_35.obj" scale="1.0000E+00 1.0000E+00 1.0000E+00"/>
      </geometry>
      <material name=""/>
    </visual>
    <collision>
      <origin xyz="0 0 0" rpy="0 0 0"/>
      <geometry>
        <mesh filename="handle~handle5_convex_piece_35.obj" scale="1.0000E+00 1.0000E+00 1.0000E+00"/>
      </geometry>
    </collision>
  </link>
  <joint name="link_handle~handle5_convex_piece_35_joint" type="fixed">
    <origin xyz="0 0 0" rpy="0 0 0"/>
    <parent link="link_handle~handle5_convex_piece_34"/>
    <child link="link_handle~handle5_convex_piece_35"/>
  </joint>
  <link name="link_handle~handle5_convex_piece_36">
    <inertial>
      <origin xyz="0 0 0" rpy="0 0 0"/>
      <mass value="4.37E-04"/>
      <inertia ixx="1.49E-08" ixy="-1.83E-08" ixz="-1.32E-08" iyy="6.02E-08" iyz="-6.14E-09" izz="6.64E-08"/>
    </inertial>
    <visual>
      <origin xyz="0 0 0" rpy="0 0 0"/>
      <geometry>
        <mesh filename="handle~handle5_convex_piece_36.obj" scale="1.0000E+00 1.0000E+00 1.0000E+00"/>
      </geometry>
      <material name=""/>
    </visual>
    <collision>
      <origin xyz="0 0 0" rpy="0 0 0"/>
      <geometry>
        <mesh filename="handle~handle5_convex_piece_36.obj" scale="1.0000E+00 1.0000E+00 1.0000E+00"/>
      </geometry>
    </collision>
  </link>
  <joint name="link_handle~handle5_convex_piece_36_joint" type="fixed">
    <origin xyz="0 0 0" rpy="0 0 0"/>
    <parent link="link_handle~handle5_convex_piece_35"/>
    <child link="link_handle~handle5_convex_piece_36"/>
  </joint>
  <link name="link_handle~handle5_convex_piece_37">
    <inertial>
      <origin xyz="0 0 0" rpy="0 0 0"/>
      <mass value="8.27E-05"/>
      <inertia ixx="1.98E-09" ixy="-2.26E-08" ixz="-1.14E-08" iyy="3.39E-07" iyz="-7.80E-10" izz="3.41E-07"/>
    </inertial>
    <visual>
      <origin xyz="0 0 0" rpy="0 0 0"/>
      <geometry>
        <mesh filename="handle~handle5_convex_piece_37.obj" scale="1.0000E+00 1.0000E+00 1.0000E+00"/>
      </geometry>
      <material name=""/>
    </visual>
    <collision>
      <origin xyz="0 0 0" rpy="0 0 0"/>
      <geometry>
        <mesh filename="handle~handle5_convex_piece_37.obj" scale="1.0000E+00 1.0000E+00 1.0000E+00"/>
      </geometry>
    </collision>
  </link>
  <joint name="link_handle~handle5_convex_piece_37_joint" type="fixed">
    <origin xyz="0 0 0" rpy="0 0 0"/>
    <parent link="link_handle~handle5_convex_piece_36"/>
    <child link="link_handle~handle5_convex_piece_37"/>
  </joint>
  <link name="link_handle~handle5_convex_piece_38">
    <inertial>
      <origin xyz="0 0 0" rpy="0 0 0"/>
      <mass value="7.99E-05"/>
      <inertia ixx="4.12E-09" ixy="-2.59E-08" ixz="-1.02E-08" iyy="2.11E-07" iyz="-1.37E-09" izz="2.14E-07"/>
    </inertial>
    <visual>
      <origin xyz="0 0 0" rpy="0 0 0"/>
      <geometry>
        <mesh filename="handle~handle5_convex_piece_38.obj" scale="1.0000E+00 1.0000E+00 1.0000E+00"/>
      </geometry>
      <material name=""/>
    </visual>
    <collision>
      <origin xyz="0 0 0" rpy="0 0 0"/>
      <geometry>
        <mesh filename="handle~handle5_convex_piece_38.obj" scale="1.0000E+00 1.0000E+00 1.0000E+00"/>
      </geometry>
    </collision>
  </link>
  <joint name="link_handle~handle5_convex_piece_38_joint" type="fixed">
    <origin xyz="0 0 0" rpy="0 0 0"/>
    <parent link="link_handle~handle5_convex_piece_37"/>
    <child link="link_handle~handle5_convex_piece_38"/>
  </joint>
  <link name="link_handle~handle5_convex_piece_39">
    <inertial>
      <origin xyz="0 0 0" rpy="0 0 0"/>
      <mass value="1.60E-04"/>
      <inertia ixx="1.03E-08" ixy="4.69E-08" ixz="-2.40E-08" iyy="2.89E-07" iyz="4.19E-09" izz="2.95E-07"/>
    </inertial>
    <visual>
      <origin xyz="0 0 0" rpy="0 0 0"/>
      <geometry>
        <mesh filename="handle~handle5_convex_piece_39.obj" scale="1.0000E+00 1.0000E+00 1.0000E+00"/>
      </geometry>
      <material name=""/>
    </visual>
    <collision>
      <origin xyz="0 0 0" rpy="0 0 0"/>
      <geometry>
        <mesh filename="handle~handle5_convex_piece_39.obj" scale="1.0000E+00 1.0000E+00 1.0000E+00"/>
      </geometry>
    </collision>
  </link>
  <joint name="link_handle~handle5_convex_piece_39_joint" type="fixed">
    <origin xyz="0 0 0" rpy="0 0 0"/>
    <parent link="link_handle~handle5_convex_piece_38"/>
    <child link="link_handle~handle5_convex_piece_39"/>
  </joint>
  <link name="link_handle~handle5_convex_piece_40">
    <inertial>
      <origin xyz="0 0 0" rpy="0 0 0"/>
      <mass value="1.46E-04"/>
      <inertia ixx="5.48E-09" ixy="1.20E-08" ixz="-7.55E-09" iyy="4.51E-08" iyz="2.35E-09" izz="4.75E-08"/>
    </inertial>
    <visual>
      <origin xyz="0 0 0" rpy="0 0 0"/>
      <geometry>
        <mesh filename="handle~handle5_convex_piece_40.obj" scale="1.0000E+00 1.0000E+00 1.0000E+00"/>
      </geometry>
      <material name=""/>
    </visual>
    <collision>
      <origin xyz="0 0 0" rpy="0 0 0"/>
      <geometry>
        <mesh filename="handle~handle5_convex_piece_40.obj" scale="1.0000E+00 1.0000E+00 1.0000E+00"/>
      </geometry>
    </collision>
  </link>
  <joint name="link_handle~handle5_convex_piece_40_joint" type="fixed">
    <origin xyz="0 0 0" rpy="0 0 0"/>
    <parent link="link_handle~handle5_convex_piece_39"/>
    <child link="link_handle~handle5_convex_piece_40"/>
  </joint>
  <link name="link_handle~handle5_convex_piece_41">
    <inertial>
      <origin xyz="0 0 0" rpy="0 0 0"/>
      <mass value="6.87E-04"/>
      <inertia ixx="1.82E-08" ixy="1.19E-07" ixz="-1.31E-07" iyy="2.73E-06" iyz="7.14E-09" izz="2.73E-06"/>
    </inertial>
    <visual>
      <origin xyz="0 0 0" rpy="0 0 0"/>
      <geometry>
        <mesh filename="handle~handle5_convex_piece_41.obj" scale="1.0000E+00 1.0000E+00 1.0000E+00"/>
      </geometry>
      <material name=""/>
    </visual>
    <collision>
      <origin xyz="0 0 0" rpy="0 0 0"/>
      <geometry>
        <mesh filename="handle~handle5_convex_piece_41.obj" scale="1.0000E+00 1.0000E+00 1.0000E+00"/>
      </geometry>
    </collision>
  </link>
  <joint name="link_handle~handle5_convex_piece_41_joint" type="fixed">
    <origin xyz="0 0 0" rpy="0 0 0"/>
    <parent link="link_handle~handle5_convex_piece_40"/>
    <child link="link_handle~handle5_convex_piece_41"/>
  </joint>
  <link name="link_handle~handle5_convex_piece_42">
    <inertial>
      <origin xyz="0 0 0" rpy="0 0 0"/>
      <mass value="3.02E-04"/>
      <inertia ixx="7.59E-08" ixy="1.97E-08" ixz="-1.23E-07" iyy="2.85E-07" iyz="1.18E-08" izz="2.14E-07"/>
    </inertial>
    <visual>
      <origin xyz="0 0 0" rpy="0 0 0"/>
      <geometry>
        <mesh filename="handle~handle5_convex_piece_42.obj" scale="1.0000E+00 1.0000E+00 1.0000E+00"/>
      </geometry>
      <material name=""/>
    </visual>
    <collision>
      <origin xyz="0 0 0" rpy="0 0 0"/>
      <geometry>
        <mesh filename="handle~handle5_convex_piece_42.obj" scale="1.0000E+00 1.0000E+00 1.0000E+00"/>
      </geometry>
    </collision>
  </link>
  <joint name="link_handle~handle5_convex_piece_42_joint" type="fixed">
    <origin xyz="0 0 0" rpy="0 0 0"/>
    <parent link="link_handle~handle5_convex_piece_41"/>
    <child link="link_handle~handle5_convex_piece_42"/>
  </joint>
  <link name="link_handle~handle5_convex_piece_43">
    <inertial>
      <origin xyz="0 0 0" rpy="0 0 0"/>
      <mass value="4.19E-05"/>
      <inertia ixx="3.05E-08" ixy="9.54E-09" ixz="-3.51E-08" iyy="7.27E-08" iyz="7.64E-09" izz="4.65E-08"/>
    </inertial>
    <visual>
      <origin xyz="0 0 0" rpy="0 0 0"/>
      <geometry>
        <mesh filename="handle~handle5_convex_piece_43.obj" scale="1.0000E+00 1.0000E+00 1.0000E+00"/>
      </geometry>
      <material name=""/>
    </visual>
    <collision>
      <origin xyz="0 0 0" rpy="0 0 0"/>
      <geometry>
        <mesh filename="handle~handle5_convex_piece_43.obj" scale="1.0000E+00 1.0000E+00 1.0000E+00"/>
      </geometry>
    </collision>
  </link>
  <joint name="link_handle~handle5_convex_piece_43_joint" type="fixed">
    <origin xyz="0 0 0" rpy="0 0 0"/>
    <parent link="link_handle~handle5_convex_piece_42"/>
    <child link="link_handle~handle5_convex_piece_43"/>
  </joint>
  <link name="link_handle~handle5_convex_piece_44">
    <inertial>
      <origin xyz="0 0 0" rpy="0 0 0"/>
      <mass value="1.75E-03"/>
      <inertia ixx="2.36E-07" ixy="1.32E-07" ixz="2.51E-07" iyy="5.95E-07" iyz="-8.61E-08" izz="4.83E-07"/>
    </inertial>
    <visual>
      <origin xyz="0 0 0" rpy="0 0 0"/>
      <geometry>
        <mesh filename="handle~handle5_convex_piece_44.obj" scale="1.0000E+00 1.0000E+00 1.0000E+00"/>
      </geometry>
      <material name=""/>
    </visual>
    <collision>
      <origin xyz="0 0 0" rpy="0 0 0"/>
      <geometry>
        <mesh filename="handle~handle5_convex_piece_44.obj" scale="1.0000E+00 1.0000E+00 1.0000E+00"/>
      </geometry>
    </collision>
  </link>
  <joint name="link_handle~handle5_convex_piece_44_joint" type="fixed">
    <origin xyz="0 0 0" rpy="0 0 0"/>
    <parent link="link_handle~handle5_convex_piece_43"/>
    <child link="link_handle~handle5_convex_piece_44"/>
  </joint>
  <link name="link_handle~handle5_convex_piece_45">
    <inertial>
      <origin xyz="0 0 0" rpy="0 0 0"/>
      <mass value="1.14E-03"/>
      <inertia ixx="5.04E-07" ixy="-3.11E-07" ixz="-7.15E-07" iyy="1.72E-06" iyz="-1.77E-07" izz="1.37E-06"/>
    </inertial>
    <visual>
      <origin xyz="0 0 0" rpy="0 0 0"/>
      <geometry>
        <mesh filename="handle~handle5_convex_piece_45.obj" scale="1.0000E+00 1.0000E+00 1.0000E+00"/>
      </geometry>
      <material name=""/>
    </visual>
    <collision>
      <origin xyz="0 0 0" rpy="0 0 0"/>
      <geometry>
        <mesh filename="handle~handle5_convex_piece_45.obj" scale="1.0000E+00 1.0000E+00 1.0000E+00"/>
      </geometry>
    </collision>
  </link>
  <joint name="link_handle~handle5_convex_piece_45_joint" type="fixed">
    <origin xyz="0 0 0" rpy="0 0 0"/>
    <parent link="link_handle~handle5_convex_piece_44"/>
    <child link="link_handle~handle5_convex_piece_45"/>
  </joint>
  <link name="link_handle~handle5_convex_piece_46">
    <inertial>
      <origin xyz="0 0 0" rpy="0 0 0"/>
      <mass value="1.04E-03"/>
      <inertia ixx="3.66E-08" ixy="4.78E-08" ixz="3.91E-08" iyy="2.03E-07" iyz="-1.46E-08" izz="2.14E-07"/>
    </inertial>
    <visual>
      <origin xyz="0 0 0" rpy="0 0 0"/>
      <geometry>
        <mesh filename="handle~handle5_convex_piece_46.obj" scale="1.0000E+00 1.0000E+00 1.0000E+00"/>
      </geometry>
      <material name=""/>
    </visual>
    <collision>
      <origin xyz="0 0 0" rpy="0 0 0"/>
      <geometry>
        <mesh filename="handle~handle5_convex_piece_46.obj" scale="1.0000E+00 1.0000E+00 1.0000E+00"/>
      </geometry>
    </collision>
  </link>
  <joint name="link_handle~handle5_convex_piece_46_joint" type="fixed">
    <origin xyz="0 0 0" rpy="0 0 0"/>
    <parent link="link_handle~handle5_convex_piece_45"/>
    <child link="link_handle~handle5_convex_piece_46"/>
  </joint>
  <link name="link_handle~handle5_convex_piece_47">
    <inertial>
      <origin xyz="0 0 0" rpy="0 0 0"/>
      <mass value="1.02E-03"/>
      <inertia ixx="2.81E-08" ixy="-9.16E-08" ixz="-1.05E-07" iyy="1.31E-06" iyz="-1.03E-08" izz="1.31E-06"/>
    </inertial>
    <visual>
      <origin xyz="0 0 0" rpy="0 0 0"/>
      <geometry>
        <mesh filename="handle~handle5_convex_piece_47.obj" scale="1.0000E+00 1.0000E+00 1.0000E+00"/>
      </geometry>
      <material name=""/>
    </visual>
    <collision>
      <origin xyz="0 0 0" rpy="0 0 0"/>
      <geometry>
        <mesh filename="handle~handle5_convex_piece_47.obj" scale="1.0000E+00 1.0000E+00 1.0000E+00"/>
      </geometry>
    </collision>
  </link>
  <joint name="link_handle~handle5_convex_piece_47_joint" type="fixed">
    <origin xyz="0 0 0" rpy="0 0 0"/>
    <parent link="link_handle~handle5_convex_piece_46"/>
    <child link="link_handle~handle5_convex_piece_47"/>
  </joint>
  <link name="link_handle~handle5_convex_piece_48">
    <inertial>
      <origin xyz="0 0 0" rpy="0 0 0"/>
      <mass value="2.59E-04"/>
      <inertia ixx="1.71E-08" ixy="-1.02E-07" ixz="-5.99E-08" iyy="8.84E-07" iyz="-7.40E-09" izz="8.92E-07"/>
    </inertial>
    <visual>
      <origin xyz="0 0 0" rpy="0 0 0"/>
      <geometry>
        <mesh filename="handle~handle5_convex_piece_48.obj" scale="1.0000E+00 1.0000E+00 1.0000E+00"/>
      </geometry>
      <material name=""/>
    </visual>
    <collision>
      <origin xyz="0 0 0" rpy="0 0 0"/>
      <geometry>
        <mesh filename="handle~handle5_convex_piece_48.obj" scale="1.0000E+00 1.0000E+00 1.0000E+00"/>
      </geometry>
    </collision>
  </link>
  <joint name="link_handle~handle5_convex_piece_48_joint" type="fixed">
    <origin xyz="0 0 0" rpy="0 0 0"/>
    <parent link="link_handle~handle5_convex_piece_47"/>
    <child link="link_handle~handle5_convex_piece_48"/>
  </joint>
  <link name="link_handle~handle5_convex_piece_49">
    <inertial>
      <origin xyz="0 0 0" rpy="0 0 0"/>
      <mass value="1.62E-03"/>
      <inertia ixx="8.37E-08" ixy="2.48E-09" ixz="-1.36E-07" iyy="1.11E-06" iyz="2.76E-10" izz="1.14E-06"/>
    </inertial>
    <visual>
      <origin xyz="0 0 0" rpy="0 0 0"/>
      <geometry>
        <mesh filename="handle~handle5_convex_piece_49.obj" scale="1.0000E+00 1.0000E+00 1.0000E+00"/>
      </geometry>
      <material name=""/>
    </visual>
    <collision>
      <origin xyz="0 0 0" rpy="0 0 0"/>
      <geometry>
        <mesh filename="handle~handle5_convex_piece_49.obj" scale="1.0000E+00 1.0000E+00 1.0000E+00"/>
      </geometry>
    </collision>
  </link>
  <joint name="link_handle~handle5_convex_piece_49_joint" type="fixed">
    <origin xyz="0 0 0" rpy="0 0 0"/>
    <parent link="link_handle~handle5_convex_piece_48"/>
    <child link="link_handle~handle5_convex_piece_49"/>
  </joint>
  <link name="link_handle~handle5_convex_piece_50">
    <inertial>
      <origin xyz="0 0 0" rpy="0 0 0"/>
      <mass value="2.92E-04"/>
      <inertia ixx="7.21E-08" ixy="-2.46E-08" ixz="-1.17E-07" iyy="2.72E-07" iyz="-1.44E-08" izz="2.07E-07"/>
    </inertial>
    <visual>
      <origin xyz="0 0 0" rpy="0 0 0"/>
      <geometry>
        <mesh filename="handle~handle5_convex_piece_50.obj" scale="1.0000E+00 1.0000E+00 1.0000E+00"/>
      </geometry>
      <material name=""/>
    </visual>
    <collision>
      <origin xyz="0 0 0" rpy="0 0 0"/>
      <geometry>
        <mesh filename="handle~handle5_convex_piece_50.obj" scale="1.0000E+00 1.0000E+00 1.0000E+00"/>
      </geometry>
    </collision>
  </link>
  <joint name="link_handle~handle5_convex_piece_50_joint" type="fixed">
    <origin xyz="0 0 0" rpy="0 0 0"/>
    <parent link="link_handle~handle5_convex_piece_49"/>
    <child link="link_handle~handle5_convex_piece_50"/>
  </joint>
  <link name="link_handle~handle5_convex_piece_51">
    <inertial>
      <origin xyz="0 0 0" rpy="0 0 0"/>
      <mass value="4.64E-04"/>
      <inertia ixx="1.52E-08" ixy="-1.63E-08" ixz="-1.53E-07" iyy="2.82E-06" iyz="-1.07E-09" izz="2.82E-06"/>
    </inertial>
    <visual>
      <origin xyz="0 0 0" rpy="0 0 0"/>
      <geometry>
        <mesh filename="handle~handle5_convex_piece_51.obj" scale="1.0000E+00 1.0000E+00 1.0000E+00"/>
      </geometry>
      <material name=""/>
    </visual>
    <collision>
      <origin xyz="0 0 0" rpy="0 0 0"/>
      <geometry>
        <mesh filename="handle~handle5_convex_piece_51.obj" scale="1.0000E+00 1.0000E+00 1.0000E+00"/>
      </geometry>
    </collision>
  </link>
  <joint name="link_handle~handle5_convex_piece_51_joint" type="fixed">
    <origin xyz="0 0 0" rpy="0 0 0"/>
    <parent link="link_handle~handle5_convex_piece_50"/>
    <child link="link_handle~handle5_convex_piece_51"/>
  </joint>
  <link name="link_handle~handle5_convex_piece_52">
    <inertial>
      <origin xyz="0 0 0" rpy="0 0 0"/>
      <mass value="1.82E-04"/>
      <inertia ixx="7.00E-08" ixy="2.41E-08" ixz="-9.36E-08" iyy="2.65E-07" iyz="1.15E-08" izz="2.00E-07"/>
    </inertial>
    <visual>
      <origin xyz="0 0 0" rpy="0 0 0"/>
      <geometry>
        <mesh filename="handle~handle5_convex_piece_52.obj" scale="1.0000E+00 1.0000E+00 1.0000E+00"/>
      </geometry>
      <material name=""/>
    </visual>
    <collision>
      <origin xyz="0 0 0" rpy="0 0 0"/>
      <geometry>
        <mesh filename="handle~handle5_convex_piece_52.obj" scale="1.0000E+00 1.0000E+00 1.0000E+00"/>
      </geometry>
    </collision>
  </link>
  <joint name="link_handle~handle5_convex_piece_52_joint" type="fixed">
    <origin xyz="0 0 0" rpy="0 0 0"/>
    <parent link="link_handle~handle5_convex_piece_51"/>
    <child link="link_handle~handle5_convex_piece_52"/>
  </joint>
  <link name="link_handle~handle5_convex_piece_53">
    <inertial>
      <origin xyz="0 0 0" rpy="0 0 0"/>
      <mass value="2.14E-04"/>
      <inertia ixx="2.05E-07" ixy="2.10E-08" ixz="-2.44E-07" iyy="5.00E-07" iyz="1.75E-08" izz="2.98E-07"/>
    </inertial>
    <visual>
      <origin xyz="0 0 0" rpy="0 0 0"/>
      <geometry>
        <mesh filename="handle~handle5_convex_piece_53.obj" scale="1.0000E+00 1.0000E+00 1.0000E+00"/>
      </geometry>
      <material name=""/>
    </visual>
    <collision>
      <origin xyz="0 0 0" rpy="0 0 0"/>
      <geometry>
        <mesh filename="handle~handle5_convex_piece_53.obj" scale="1.0000E+00 1.0000E+00 1.0000E+00"/>
      </geometry>
    </collision>
  </link>
  <joint name="link_handle~handle5_convex_piece_53_joint" type="fixed">
    <origin xyz="0 0 0" rpy="0 0 0"/>
    <parent link="link_handle~handle5_convex_piece_52"/>
    <child link="link_handle~handle5_convex_piece_53"/>
  </joint>
  <link name="link_handle~handle5_convex_piece_54">
    <inertial>
      <origin xyz="0 0 0" rpy="0 0 0"/>
      <mass value="3.63E-04"/>
      <inertia ixx="2.85E-07" ixy="2.64E-08" ixz="-2.86E-07" iyy="5.80E-07" iyz="2.55E-08" izz="3.00E-07"/>
    </inertial>
    <visual>
      <origin xyz="0 0 0" rpy="0 0 0"/>
      <geometry>
        <mesh filename="handle~handle5_convex_piece_54.obj" scale="1.0000E+00 1.0000E+00 1.0000E+00"/>
      </geometry>
      <material name=""/>
    </visual>
    <collision>
      <origin xyz="0 0 0" rpy="0 0 0"/>
      <geometry>
        <mesh filename="handle~handle5_convex_piece_54.obj" scale="1.0000E+00 1.0000E+00 1.0000E+00"/>
      </geometry>
    </collision>
  </link>
  <joint name="link_handle~handle5_convex_piece_54_joint" type="fixed">
    <origin xyz="0 0 0" rpy="0 0 0"/>
    <parent link="link_handle~handle5_convex_piece_53"/>
    <child link="link_handle~handle5_convex_piece_54"/>
  </joint>
  <link name="link_handle~handle5_convex_piece_55">
    <inertial>
      <origin xyz="0 0 0" rpy="0 0 0"/>
      <mass value="2.66E-04"/>
      <inertia ixx="2.58E-07" ixy="4.80E-08" ixz="-2.73E-07" iyy="5.54E-07" iyz="4.32E-08" izz="3.12E-07"/>
    </inertial>
    <visual>
      <origin xyz="0 0 0" rpy="0 0 0"/>
      <geometry>
        <mesh filename="handle~handle5_convex_piece_55.obj" scale="1.0000E+00 1.0000E+00 1.0000E+00"/>
      </geometry>
      <material name=""/>
    </visual>
    <collision>
      <origin xyz="0 0 0" rpy="0 0 0"/>
      <geometry>
        <mesh filename="handle~handle5_convex_piece_55.obj" scale="1.0000E+00 1.0000E+00 1.0000E+00"/>
      </geometry>
    </collision>
  </link>
  <joint name="link_handle~handle5_convex_piece_55_joint" type="fixed">
    <origin xyz="0 0 0" rpy="0 0 0"/>
    <parent link="link_handle~handle5_convex_piece_54"/>
    <child link="link_handle~handle5_convex_piece_55"/>
  </joint>
  <link name="link_handle~handle5_convex_piece_56">
    <inertial>
      <origin xyz="0 0 0" rpy="0 0 0"/>
      <mass value="4.65E-03"/>
      <inertia ixx="5.23E-07" ixy="-3.92E-07" ixz="5.22E-07" iyy="1.78E-06" iyz="1.96E-07" izz="1.62E-06"/>
    </inertial>
    <visual>
      <origin xyz="0 0 0" rpy="0 0 0"/>
      <geometry>
        <mesh filename="handle~handle5_convex_piece_56.obj" scale="1.0000E+00 1.0000E+00 1.0000E+00"/>
      </geometry>
      <material name=""/>
    </visual>
    <collision>
      <origin xyz="0 0 0" rpy="0 0 0"/>
      <geometry>
        <mesh filename="handle~handle5_convex_piece_56.obj" scale="1.0000E+00 1.0000E+00 1.0000E+00"/>
      </geometry>
    </collision>
  </link>
  <joint name="link_handle~handle5_convex_piece_56_joint" type="fixed">
    <origin xyz="0 0 0" rpy="0 0 0"/>
    <parent link="link_handle~handle5_convex_piece_55"/>
    <child link="link_handle~handle5_convex_piece_56"/>
  </joint>
  <link name="link_handle~handle5_convex_piece_57">
    <inertial>
      <origin xyz="0 0 0" rpy="0 0 0"/>
      <mass value="7.59E-04"/>
      <inertia ixx="8.76E-08" ixy="2.42E-07" ixz="-4.07E-07" iyy="3.03E-06" iyz="3.38E-08" izz="2.99E-06"/>
    </inertial>
    <visual>
      <origin xyz="0 0 0" rpy="0 0 0"/>
      <geometry>
        <mesh filename="handle~handle5_convex_piece_57.obj" scale="1.0000E+00 1.0000E+00 1.0000E+00"/>
      </geometry>
      <material name=""/>
    </visual>
    <collision>
      <origin xyz="0 0 0" rpy="0 0 0"/>
      <geometry>
        <mesh filename="handle~handle5_convex_piece_57.obj" scale="1.0000E+00 1.0000E+00 1.0000E+00"/>
      </geometry>
    </collision>
  </link>
  <joint name="link_handle~handle5_convex_piece_57_joint" type="fixed">
    <origin xyz="0 0 0" rpy="0 0 0"/>
    <parent link="link_handle~handle5_convex_piece_56"/>
    <child link="link_handle~handle5_convex_piece_57"/>
  </joint>
  <link name="link_handle~handle5_convex_piece_58">
    <inertial>
      <origin xyz="0 0 0" rpy="0 0 0"/>
      <mass value="3.18E-03"/>
      <inertia ixx="3.87E-07" ixy="-7.10E-08" ixz="-1.73E-07" iyy="5.83E-07" iyz="-1.25E-07" izz="3.73E-07"/>
    </inertial>
    <visual>
      <origin xyz="0 0 0" rpy="0 0 0"/>
      <geometry>
        <mesh filename="handle~handle5_convex_piece_58.obj" scale="1.0000E+00 1.0000E+00 1.0000E+00"/>
      </geometry>
      <material name=""/>
    </visual>
    <collision>
      <origin xyz="0 0 0" rpy="0 0 0"/>
      <geometry>
        <mesh filename="handle~handle5_convex_piece_58.obj" scale="1.0000E+00 1.0000E+00 1.0000E+00"/>
      </geometry>
    </collision>
  </link>
  <joint name="link_handle~handle5_convex_piece_58_joint" type="fixed">
    <origin xyz="0 0 0" rpy="0 0 0"/>
    <parent link="link_handle~handle5_convex_piece_57"/>
    <child link="link_handle~handle5_convex_piece_58"/>
  </joint>
  <link name="link_handle~handle5_convex_piece_59">
    <inertial>
      <origin xyz="0 0 0" rpy="0 0 0"/>
      <mass value="1.89E-04"/>
      <inertia ixx="3.51E-09" ixy="-3.07E-09" ixz="1.99E-08" iyy="2.07E-07" iyz="1.18E-10" izz="2.06E-07"/>
    </inertial>
    <visual>
      <origin xyz="0 0 0" rpy="0 0 0"/>
      <geometry>
        <mesh filename="handle~handle5_convex_piece_59.obj" scale="1.0000E+00 1.0000E+00 1.0000E+00"/>
      </geometry>
      <material name=""/>
    </visual>
    <collision>
      <origin xyz="0 0 0" rpy="0 0 0"/>
      <geometry>
        <mesh filename="handle~handle5_convex_piece_59.obj" scale="1.0000E+00 1.0000E+00 1.0000E+00"/>
      </geometry>
    </collision>
  </link>
  <joint name="link_handle~handle5_convex_piece_59_joint" type="fixed">
    <origin xyz="0 0 0" rpy="0 0 0"/>
    <parent link="link_handle~handle5_convex_piece_58"/>
    <child link="link_handle~handle5_convex_piece_59"/>
  </joint>
  <link name="link_handle~handle5_convex_piece_60">
    <inertial>
      <origin xyz="0 0 0" rpy="0 0 0"/>
      <mass value="4.02E-04"/>
      <inertia ixx="2.12E-07" ixy="-1.26E-08" ixz="-2.24E-07" iyy="4.51E-07" iyz="-1.13E-08" izz="2.48E-07"/>
    </inertial>
    <visual>
      <origin xyz="0 0 0" rpy="0 0 0"/>
      <geometry>
        <mesh filename="handle~handle5_convex_piece_60.obj" scale="1.0000E+00 1.0000E+00 1.0000E+00"/>
      </geometry>
      <material name=""/>
    </visual>
    <collision>
      <origin xyz="0 0 0" rpy="0 0 0"/>
      <geometry>
        <mesh filename="handle~handle5_convex_piece_60.obj" scale="1.0000E+00 1.0000E+00 1.0000E+00"/>
      </geometry>
    </collision>
  </link>
  <joint name="link_handle~handle5_convex_piece_60_joint" type="fixed">
    <origin xyz="0 0 0" rpy="0 0 0"/>
    <parent link="link_handle~handle5_convex_piece_59"/>
    <child link="link_handle~handle5_convex_piece_60"/>
  </joint>
  <link name="link_handle~handle5_convex_piece_61">
    <inertial>
      <origin xyz="0 0 0" rpy="0 0 0"/>
      <mass value="1.07E-04"/>
      <inertia ixx="5.36E-09" ixy="2.99E-08" ixz="-1.16E-08" iyy="2.36E-07" iyz="1.75E-09" izz="2.40E-07"/>
    </inertial>
    <visual>
      <origin xyz="0 0 0" rpy="0 0 0"/>
      <geometry>
        <mesh filename="handle~handle5_convex_piece_61.obj" scale="1.0000E+00 1.0000E+00 1.0000E+00"/>
      </geometry>
      <material name=""/>
    </visual>
    <collision>
      <origin xyz="0 0 0" rpy="0 0 0"/>
      <geometry>
        <mesh filename="handle~handle5_convex_piece_61.obj" scale="1.0000E+00 1.0000E+00 1.0000E+00"/>
      </geometry>
    </collision>
  </link>
  <joint name="link_handle~handle5_convex_piece_61_joint" type="fixed">
    <origin xyz="0 0 0" rpy="0 0 0"/>
    <parent link="link_handle~handle5_convex_piece_60"/>
    <child link="link_handle~handle5_convex_piece_61"/>
  </joint>
  <link name="link_handle~handle5_convex_piece_62">
    <inertial>
      <origin xyz="0 0 0" rpy="0 0 0"/>
      <mass value="2.34E-04"/>
      <inertia ixx="1.57E-07" ixy="-2.27E-08" ixz="-1.72E-07" iyy="3.49E-07" iyz="-2.00E-08" izz="1.99E-07"/>
    </inertial>
    <visual>
      <origin xyz="0 0 0" rpy="0 0 0"/>
      <geometry>
        <mesh filename="handle~handle5_convex_piece_62.obj" scale="1.0000E+00 1.0000E+00 1.0000E+00"/>
      </geometry>
      <material name=""/>
    </visual>
    <collision>
      <origin xyz="0 0 0" rpy="0 0 0"/>
      <geometry>
        <mesh filename="handle~handle5_convex_piece_62.obj" scale="1.0000E+00 1.0000E+00 1.0000E+00"/>
      </geometry>
    </collision>
  </link>
  <joint name="link_handle~handle5_convex_piece_62_joint" type="fixed">
    <origin xyz="0 0 0" rpy="0 0 0"/>
    <parent link="link_handle~handle5_convex_piece_61"/>
    <child link="link_handle~handle5_convex_piece_62"/>
  </joint>
  <link name="link_handle~handle5_convex_piece_63">
    <inertial>
      <origin xyz="0 0 0" rpy="0 0 0"/>
      <mass value="5.14E-03"/>
      <inertia ixx="7.35E-07" ixy="-9.75E-10" ixz="-1.84E-06" iyy="7.16E-06" iyz="-1.53E-10" izz="6.74E-06"/>
    </inertial>
    <visual>
      <origin xyz="0 0 0" rpy="0 0 0"/>
      <geometry>
        <mesh filename="handle~handle5_convex_piece_63.obj" scale="1.0000E+00 1.0000E+00 1.0000E+00"/>
      </geometry>
      <material name=""/>
    </visual>
    <collision>
      <origin xyz="0 0 0" rpy="0 0 0"/>
      <geometry>
        <mesh filename="handle~handle5_convex_piece_63.obj" scale="1.0000E+00 1.0000E+00 1.0000E+00"/>
      </geometry>
    </collision>
  </link>
  <joint name="link_handle~handle5_convex_piece_63_joint" type="fixed">
    <origin xyz="0 0 0" rpy="0 0 0"/>
    <parent link="link_handle~handle5_convex_piece_62"/>
    <child link="link_handle~handle5_convex_piece_63"/>
  </joint>
</robot>
